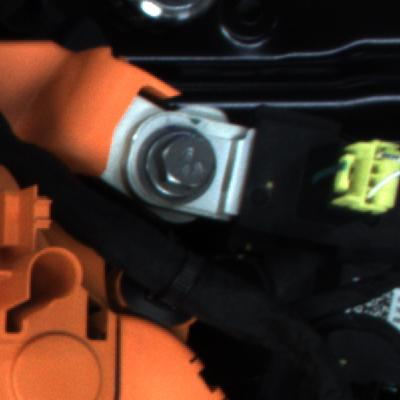nut_b: (135, 122, 222, 211)
